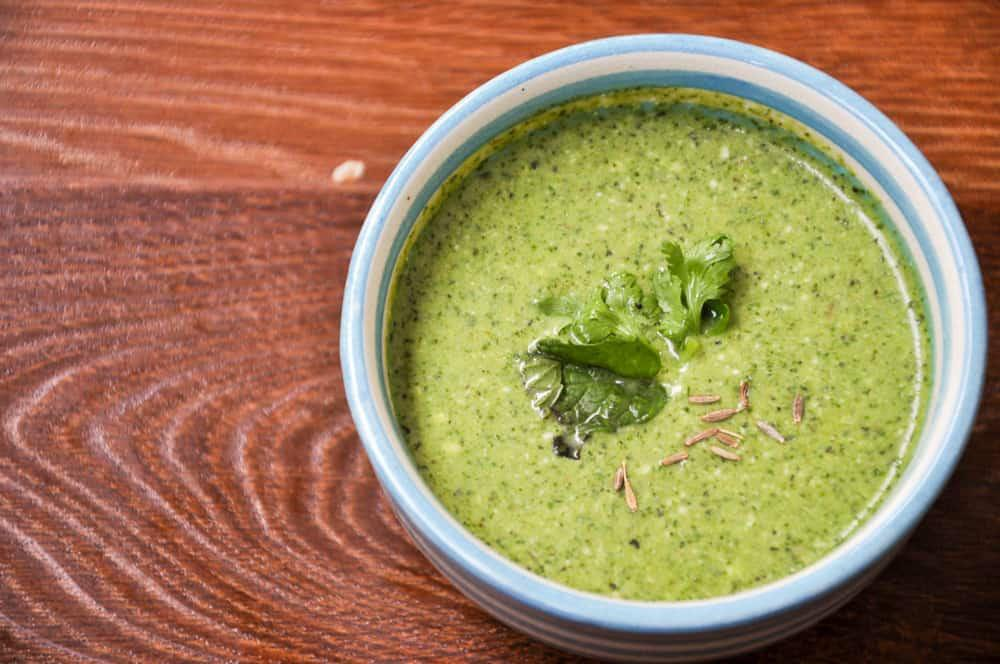GreenChutney: (389, 103, 923, 602)
